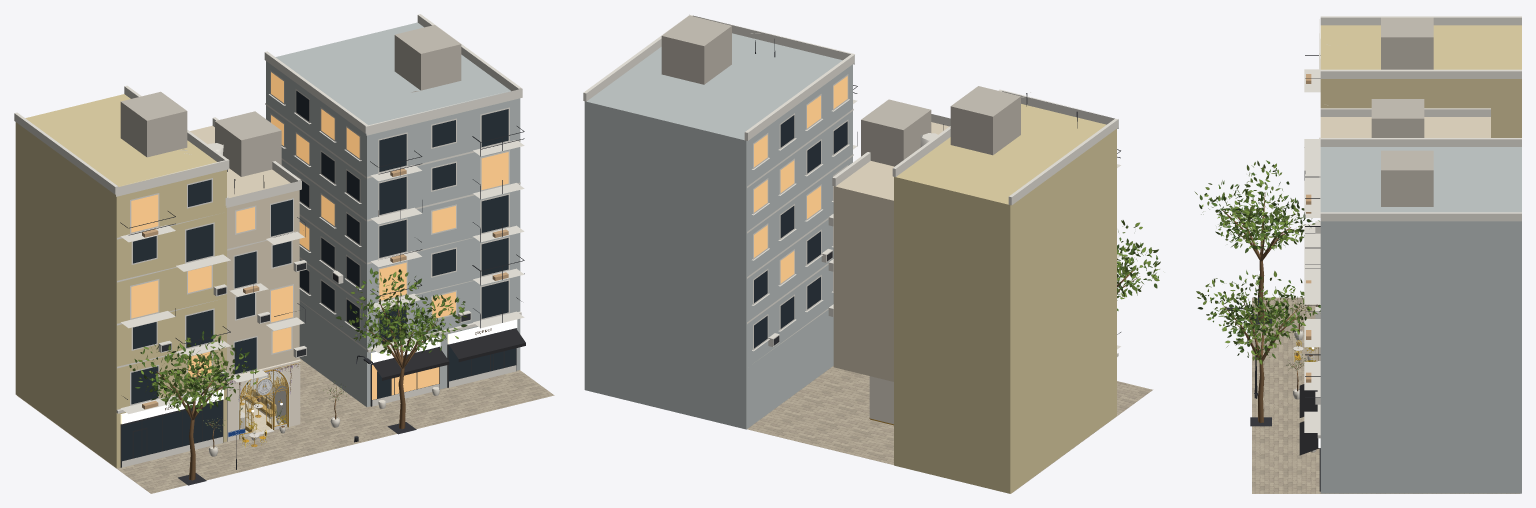
Rendered from boutique-30_lod2.glb.
3 renders of one model, left to right at view 1: azimuth 30°, elevation 25°; view 2: azimuth 150°, elevation 25°; view 3: azimuth 270°, elevation 25°, orthographic. The views are drawn at different scales.
Parts seen in each view (by area): view 1: bw4, bw6, bwtrim, win, paving, bw3, win_lit_n, facade_hi, leaf, leaf2, iron, aw_k (+7 smaller); view 2: bw6, bw4, facade_hi, bw3, bwtrim, paving, win, win_lit_n, plaster, leaf; view 3: bw6, bw4, bwtrim, paving, bw3, leaf, leaf2, facade_hi, trunk, aw_k, iron.
Part boxes in pixels (x1,y1,x2,y2): bw4: (15,94,226,468); bw6: (266,22,520,406); bwtrim: (14,14,524,467); win: (121,91,515,460); paving: (17,358,554,493); bw3: (120,25,461,176); win_lit_n: (131,72,508,399); facade_hi: (190,125,299,376); leaf: (132,271,467,412); leaf2: (129,268,467,433); iron: (120,126,524,485); aw_k: (372,328,525,380); bw6: (584,33,852,429); bw4: (894,104,1116,493); facade_hi: (833,122,949,381); bw3: (661,15,1020,166); bwtrim: (583,14,1120,362); paving: (747,366,1152,493); win: (754,115,847,348); win_lit_n: (754,76,847,283); plaster: (869,376,893,424); leaf: (1117,220,1160,300); bw6: (1320,147,1521,493); bw4: (1320,25,1521,137); bwtrim: (1304,16,1521,438); paving: (1252,297,1519,493); bw3: (1371,17,1433,206); leaf: (1194,160,1319,364); leaf2: (1197,160,1320,359); facade_hi: (1320,117,1490,137); trunk: (1222,192,1317,422); aw_k: (1299,384,1319,455); iron: (1226,55,1320,491).
Size of the model in its own units: 30.93 by 22.09 by 21.18.
63 materials, 17 textured.
